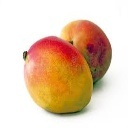mango: (24, 36, 94, 113)
